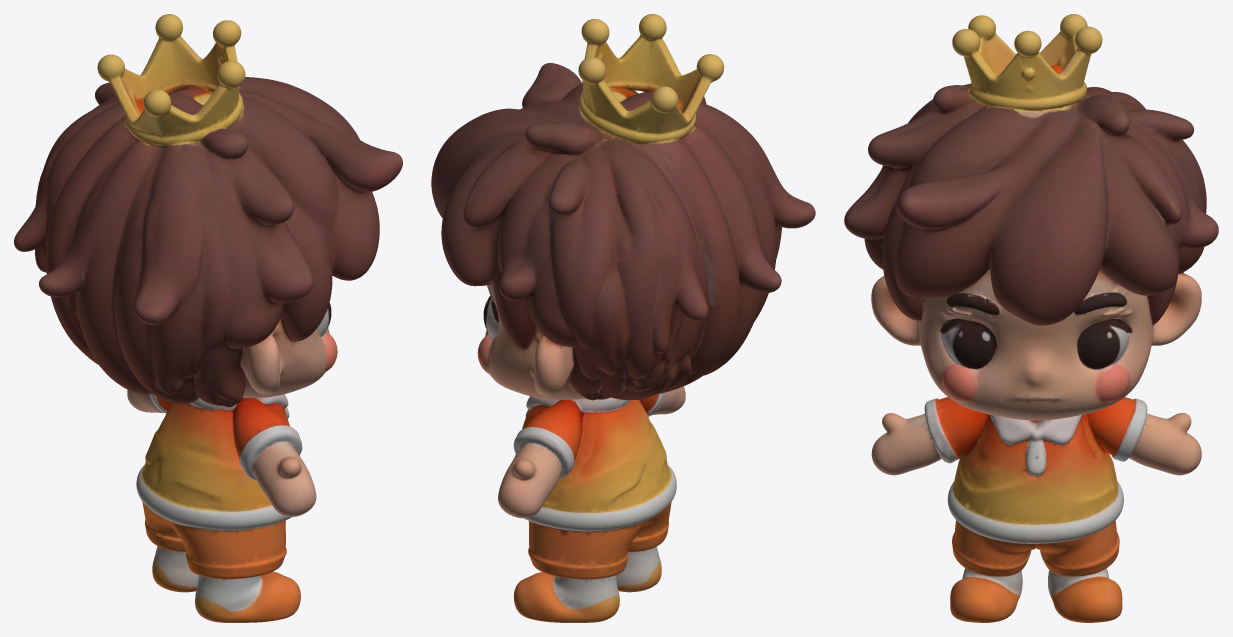
Rendered from character-boy-crown.glb.
3 renders of one model, left to right at view 1: azimuth 30°, elevation 25°; view 2: azimuth 150°, elevation 25°; view 3: azimuth 270°, elevation 25°, orthographic.
Parts seen in each view (by area): view 1: tripo_node_6f51f26a-6c16-4c0f-81ea-a5000b3aa5e9; view 2: tripo_node_6f51f26a-6c16-4c0f-81ea-a5000b3aa5e9; view 3: tripo_node_6f51f26a-6c16-4c0f-81ea-a5000b3aa5e9.
Part boxes in pixels (<box>): tripo_node_6f51f26a-6c16-4c0f-81ea-a5000b3aa5e9: <box>14,14,402,622</box>; tripo_node_6f51f26a-6c16-4c0f-81ea-a5000b3aa5e9: <box>431,14,815,622</box>; tripo_node_6f51f26a-6c16-4c0f-81ea-a5000b3aa5e9: <box>844,14,1218,622</box>.
Bounding box in the file's own units: 0.6065 × 1 × 0.5895.
1 material, 1 textured.
